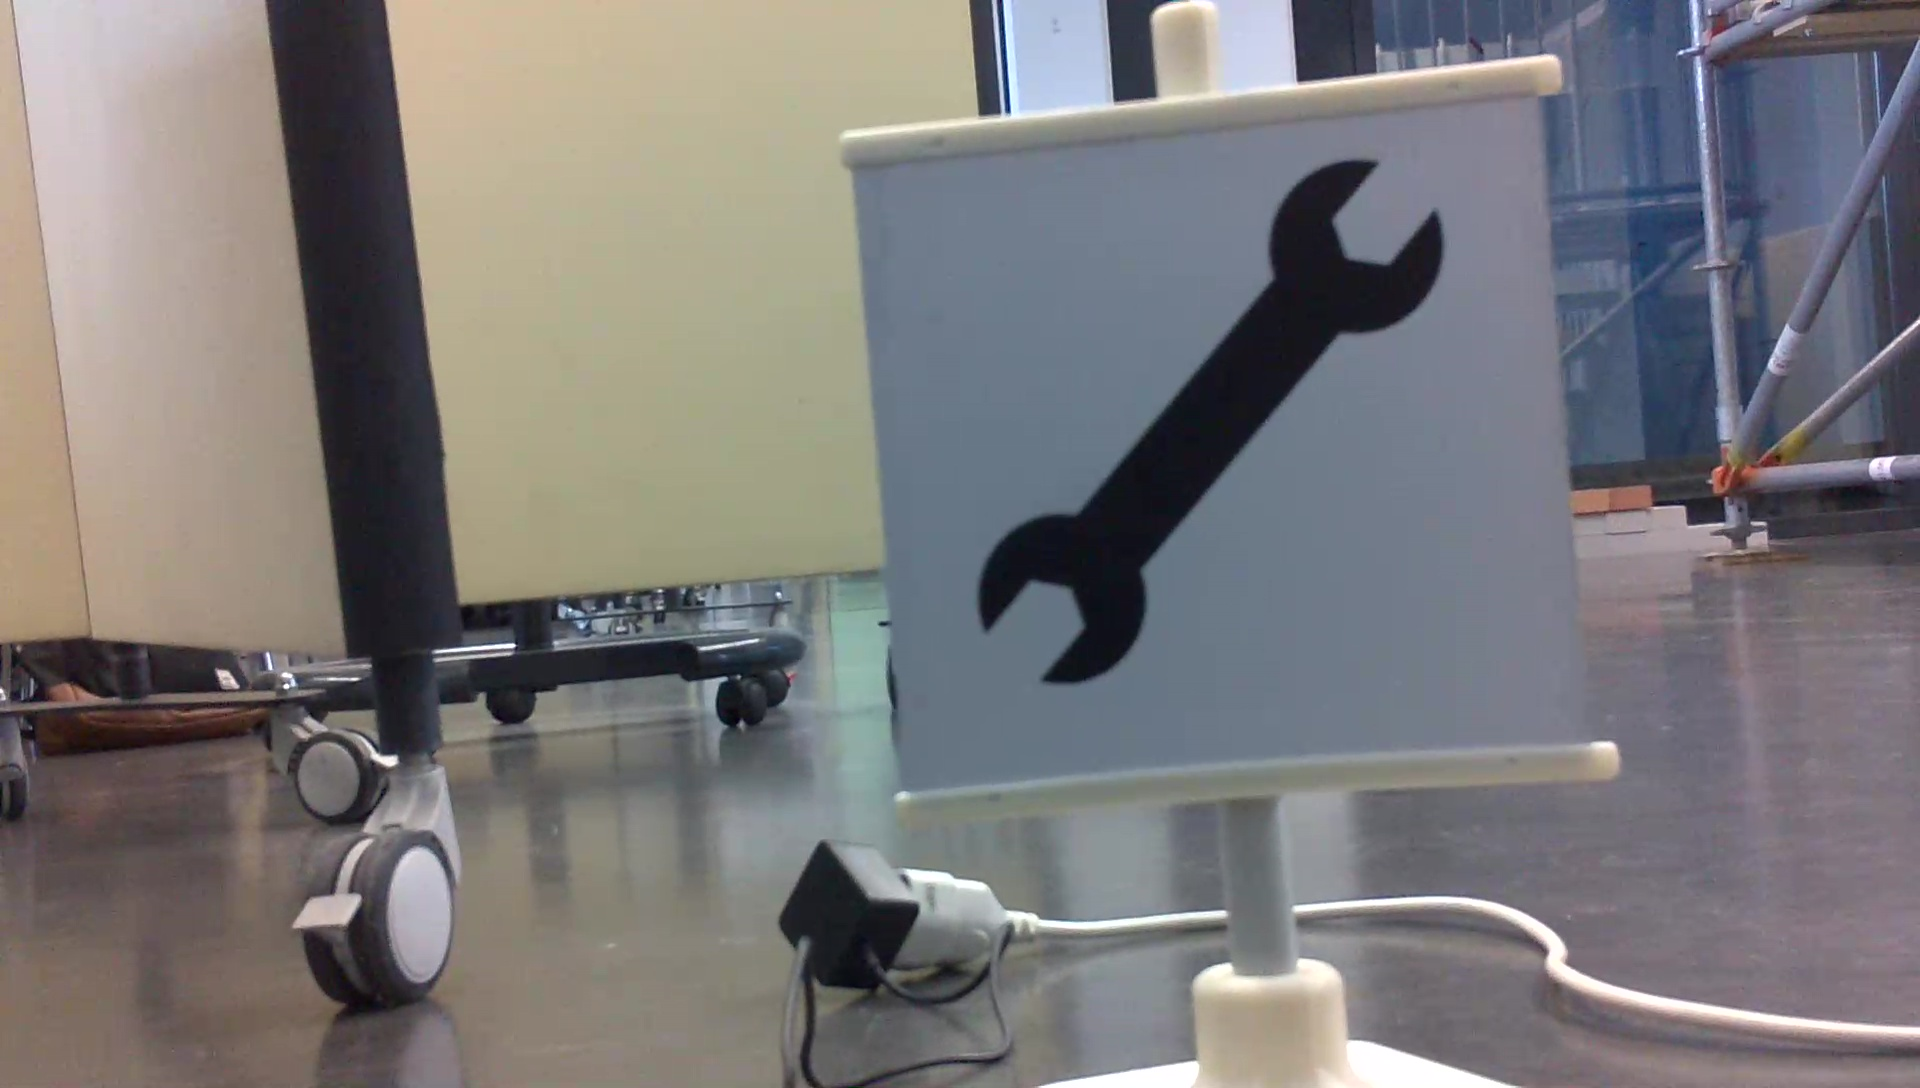wrench: (969, 148, 1460, 695)
